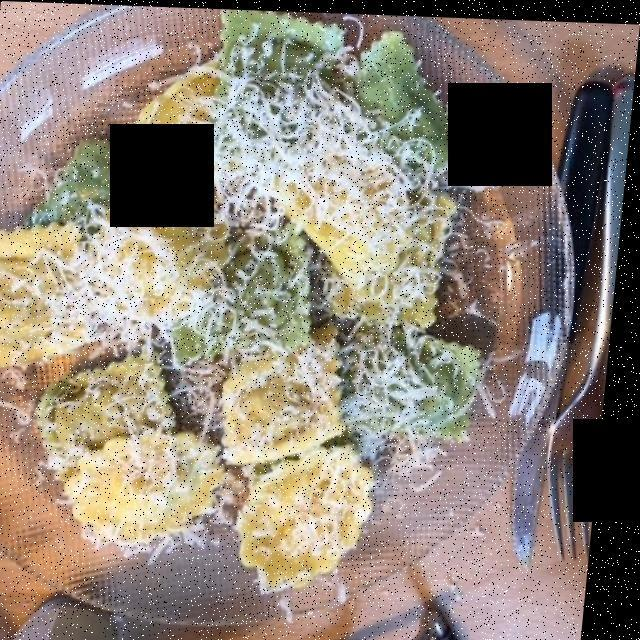cheese: (90, 68, 441, 405)
pasta: (0, 51, 496, 568)
